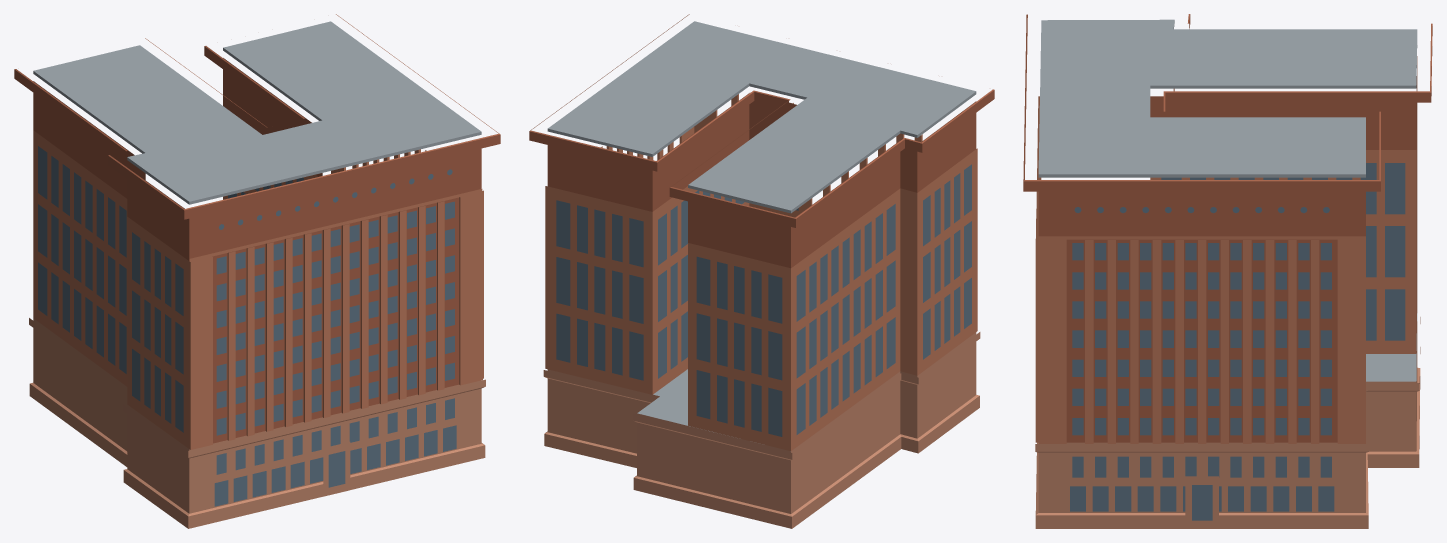
Rendered from stl-wainwright-building.glb.
3 views of the same model, side by side, from view 1: azimuth 30°, elevation 25°; view 2: azimuth 150°, elevation 25°; view 3: azimuth 270°, elevation 25° (orthographic). The views are drawn at different scales.
Visible parts, largest first — view 1: Wainwright Building; view 2: Wainwright Building; view 3: Wainwright Building.
Part boxes in pixels (x1,y1,x2,y2): Wainwright Building: (14,14,500,528); Wainwright Building: (529,14,994,528); Wainwright Building: (1023,14,1432,528).
Size of the model in its own units: 42.21 by 41.58 by 43.62.
